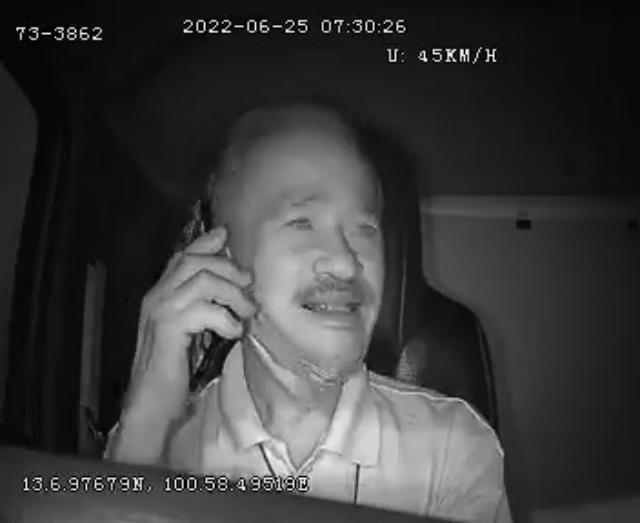PhoneUse: (170, 195, 242, 393)
SafeDriving: (342, 204, 389, 244), (276, 200, 322, 238)
